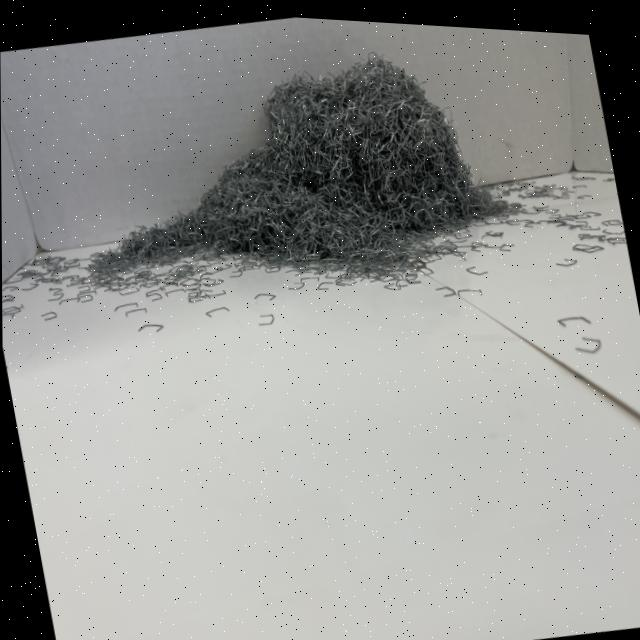staples: (63, 14, 509, 315)
